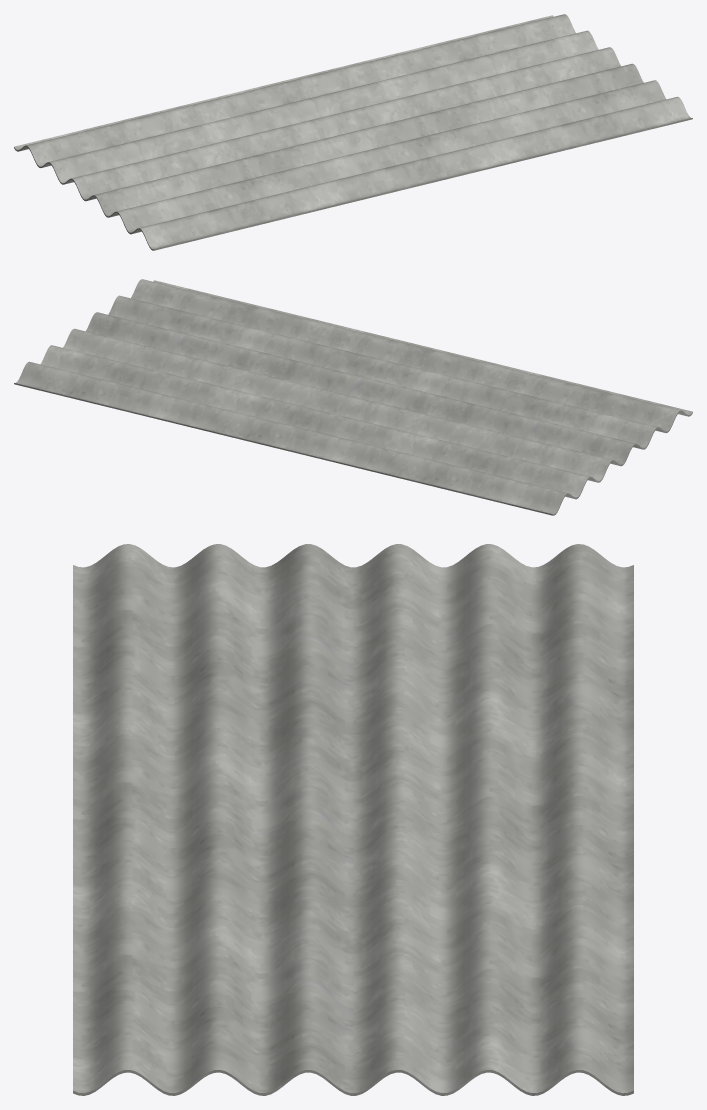
File: COB-FIB-002_lod1.glb
3 renders of one model, top to bottom at view 1: azimuth 30°, elevation 25°; view 2: azimuth 150°, elevation 25°; view 3: azimuth 270°, elevation 25°, orthographic. The views are drawn at different scales.
Visible parts, largest first — view 1: COB-FIB-002_chapa; view 2: COB-FIB-002_chapa; view 3: COB-FIB-002_chapa.
Boxes of the visible parts, x1,y1,x2,y2 form: COB-FIB-002_chapa: [14, 14, 692, 250]; COB-FIB-002_chapa: [14, 279, 692, 515]; COB-FIB-002_chapa: [73, 544, 633, 1095].
Size of the model in its own units: 2.44 by 0.0566 by 1.1.
1 material, 1 textured.
